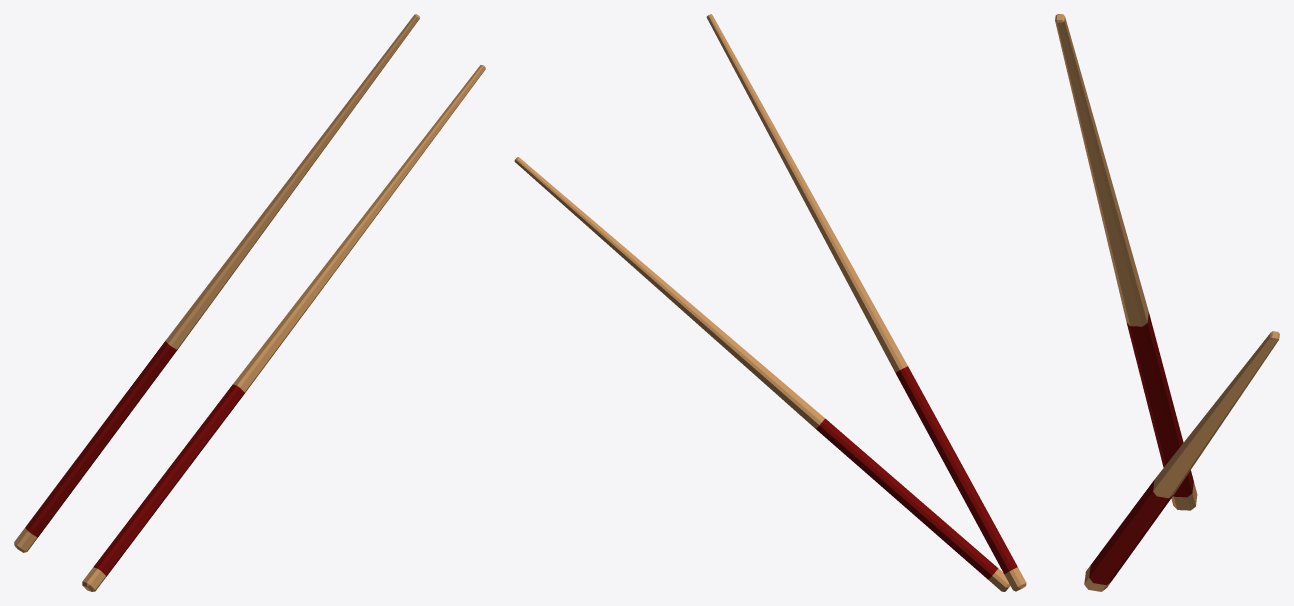
Rendered from doidua.fbx.
3 views of the same model, side by side, from view 1: azimuth 30°, elevation 25°; view 2: azimuth 150°, elevation 25°; view 3: azimuth 270°, elevation 25° (orthographic). The views are drawn at different scales.
Parts seen in each view (by area): view 1: Cube.001, Cube; view 2: Cube.001, Cube; view 3: Cube.001, Cube.
Boxes of the visible parts, x1,y1,x2,y2 form: Cube.001: [14, 14, 419, 552]; Cube: [82, 65, 485, 591]; Cube.001: [706, 14, 1026, 591]; Cube: [514, 157, 1010, 591]; Cube.001: [1055, 14, 1197, 510]; Cube: [1084, 331, 1279, 591].
Size of the model in its own units: 1402 by 1370 by 339.
